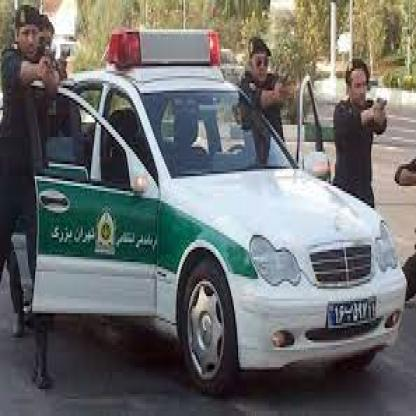licence: (322, 292, 376, 330)
